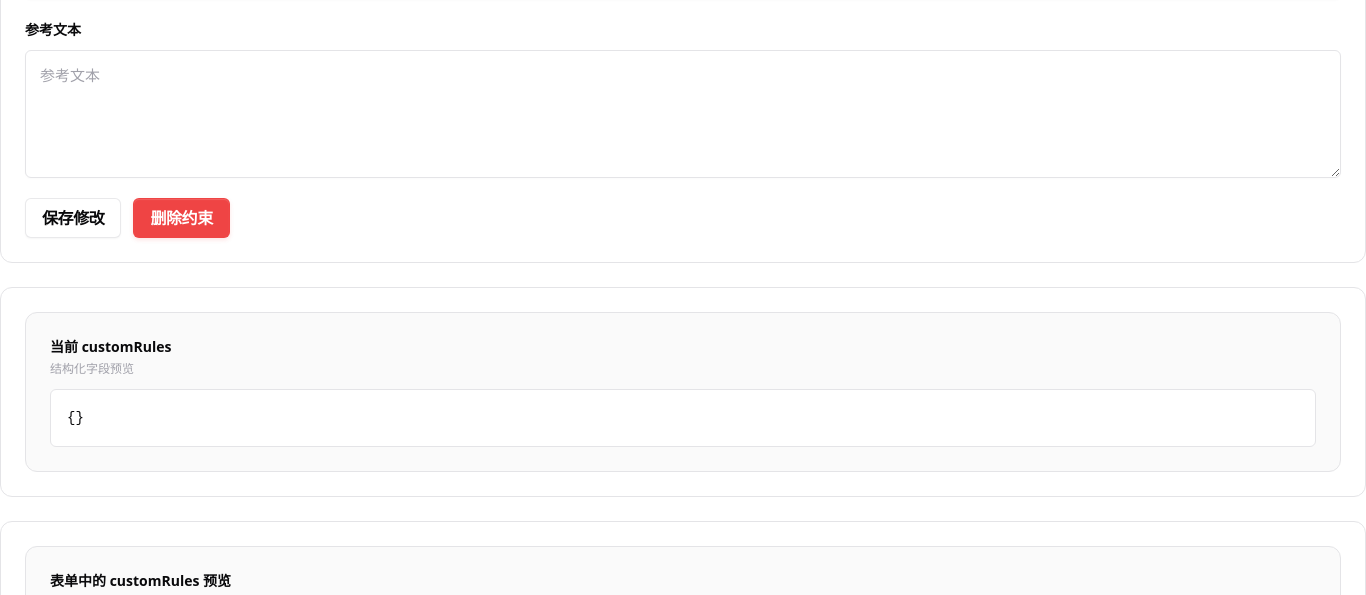
Test: StyleConstraintPage › requires confirmation before deleting the style constraint
(page scrolled)
Click the button "删除约束".
click(182, 218)  # box left=133, top=198, right=230, bottom=238
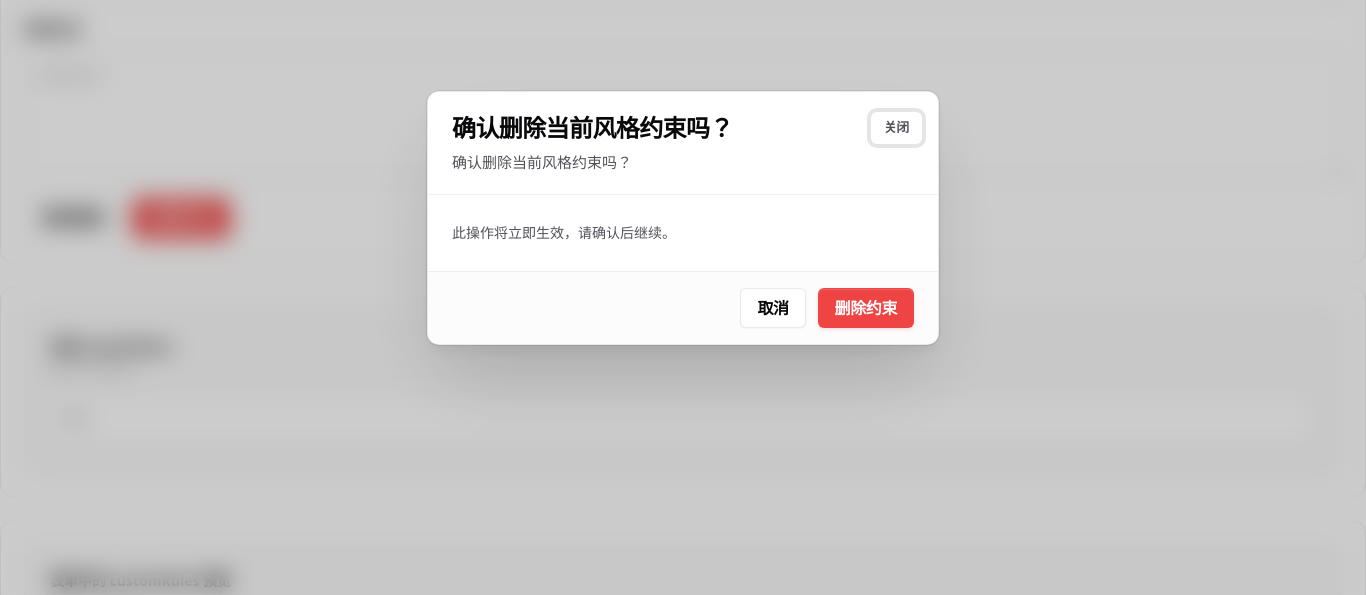
Now the dialog "确认删除当前风格约束吗？" is shown, box left=427, top=91, right=939, bottom=345
